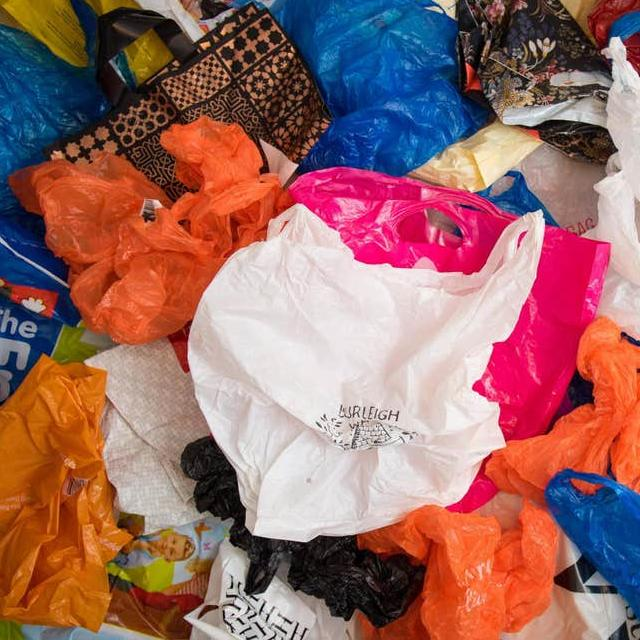Single-layer Plastic: (189, 204, 544, 541), (10, 116, 291, 343), (181, 438, 423, 627), (271, 0, 489, 176), (0, 356, 130, 628), (475, 226, 610, 440), (486, 318, 640, 503), (359, 500, 559, 640), (289, 168, 516, 273), (0, 25, 110, 214), (586, 38, 640, 336), (545, 469, 640, 619), (409, 121, 542, 192), (0, 0, 89, 67)
